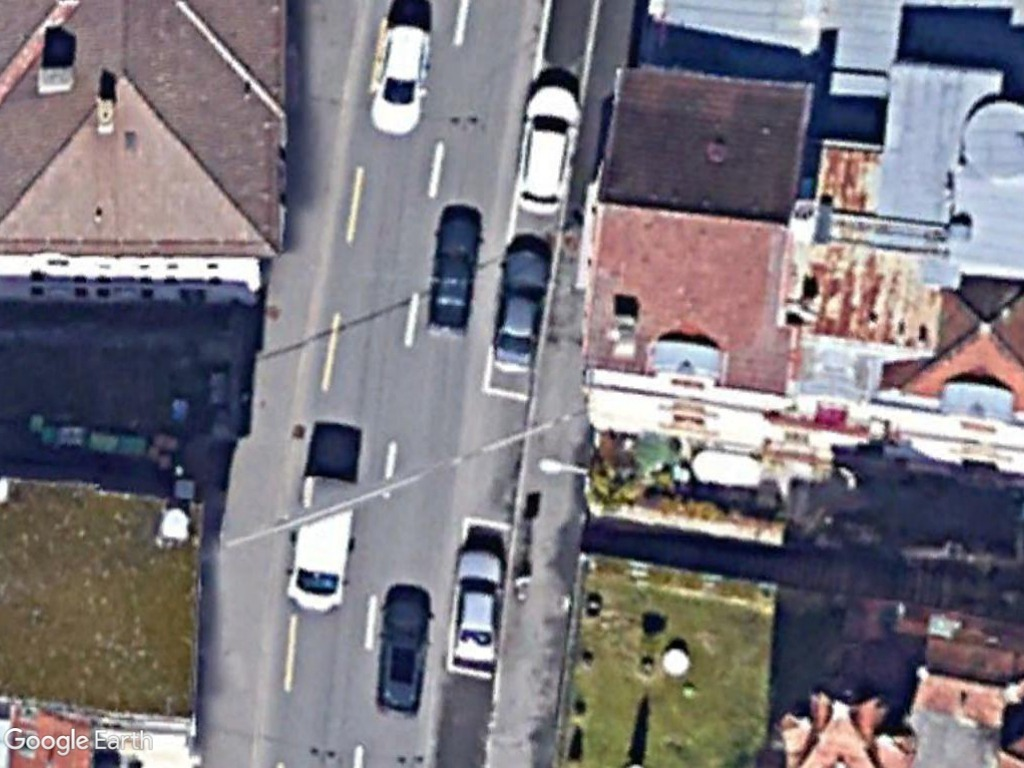car: (509, 80, 585, 220), (368, 18, 436, 138), (422, 208, 484, 338), (491, 245, 552, 370), (372, 594, 432, 717), (451, 544, 508, 668)
